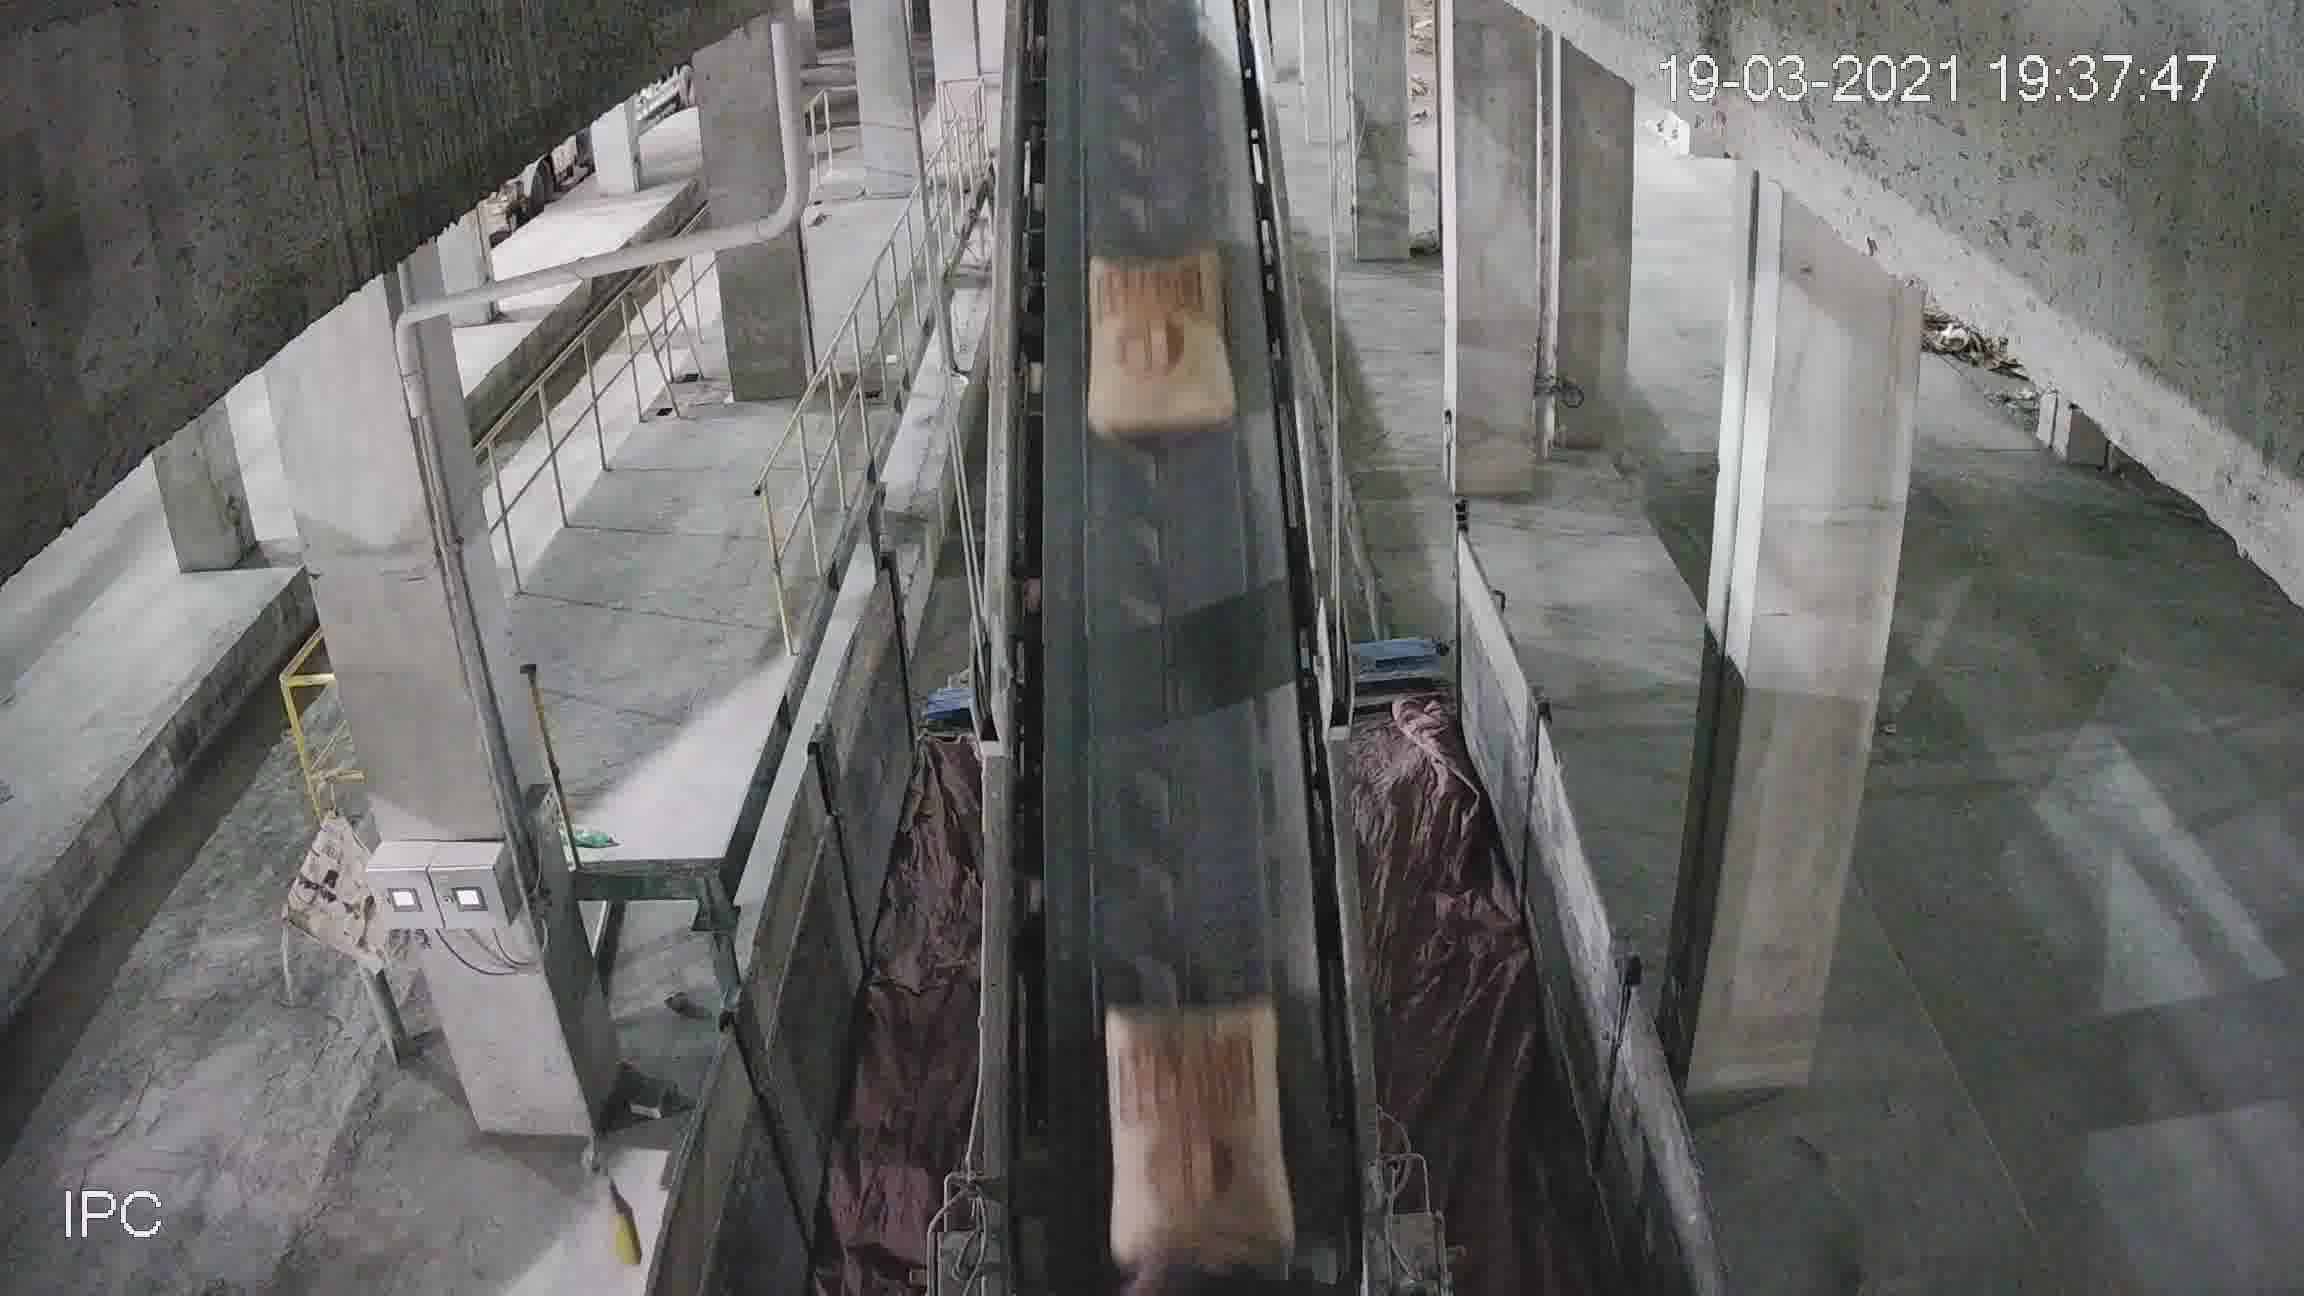bag: (1108, 997, 1287, 1192), (1087, 256, 1237, 429)
belt: (976, 41, 1355, 1158)
